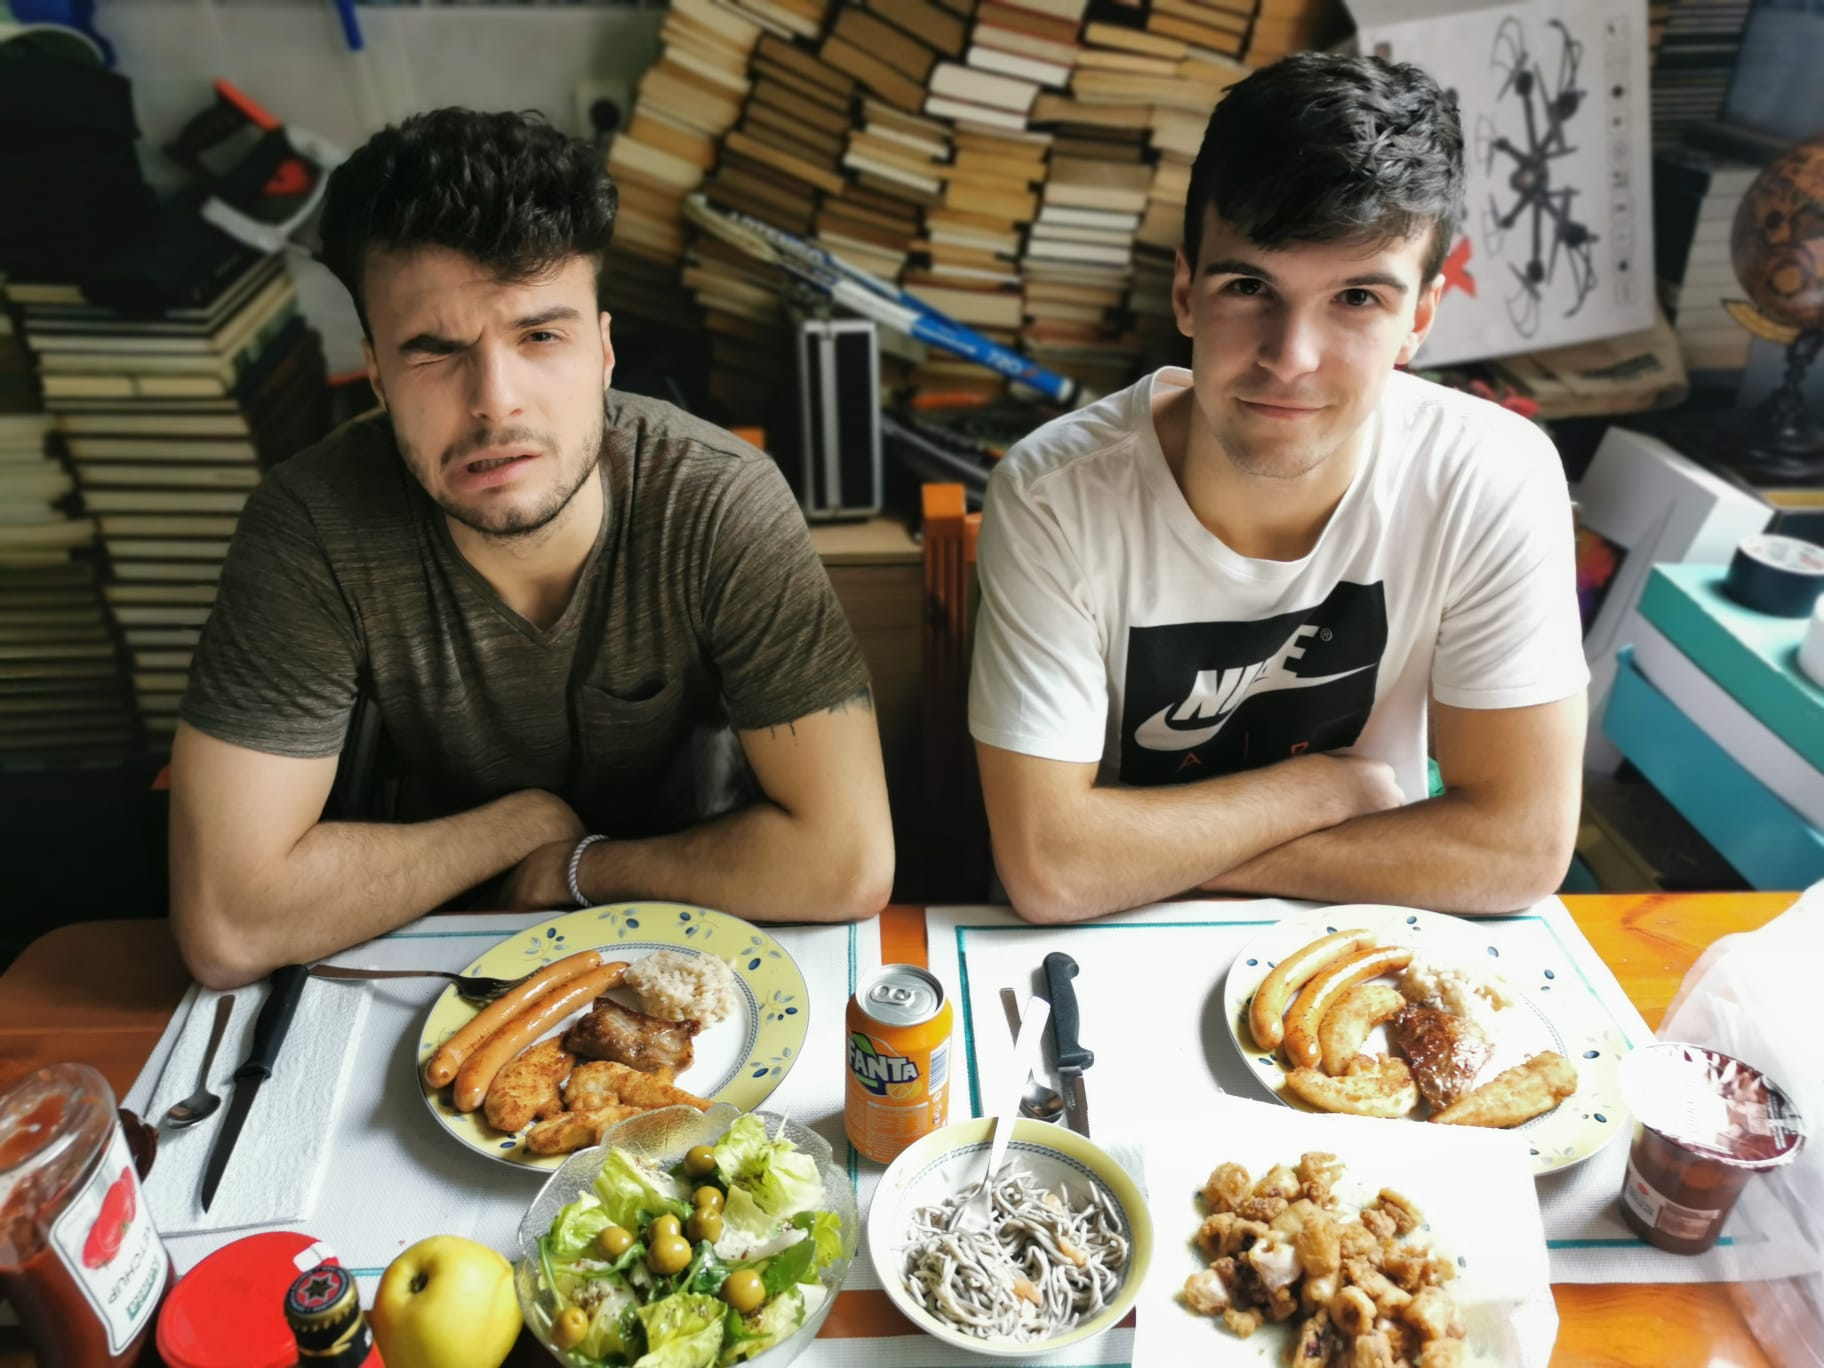No-Wink: (1194, 243, 1415, 335)
Wink: (378, 307, 608, 386)
